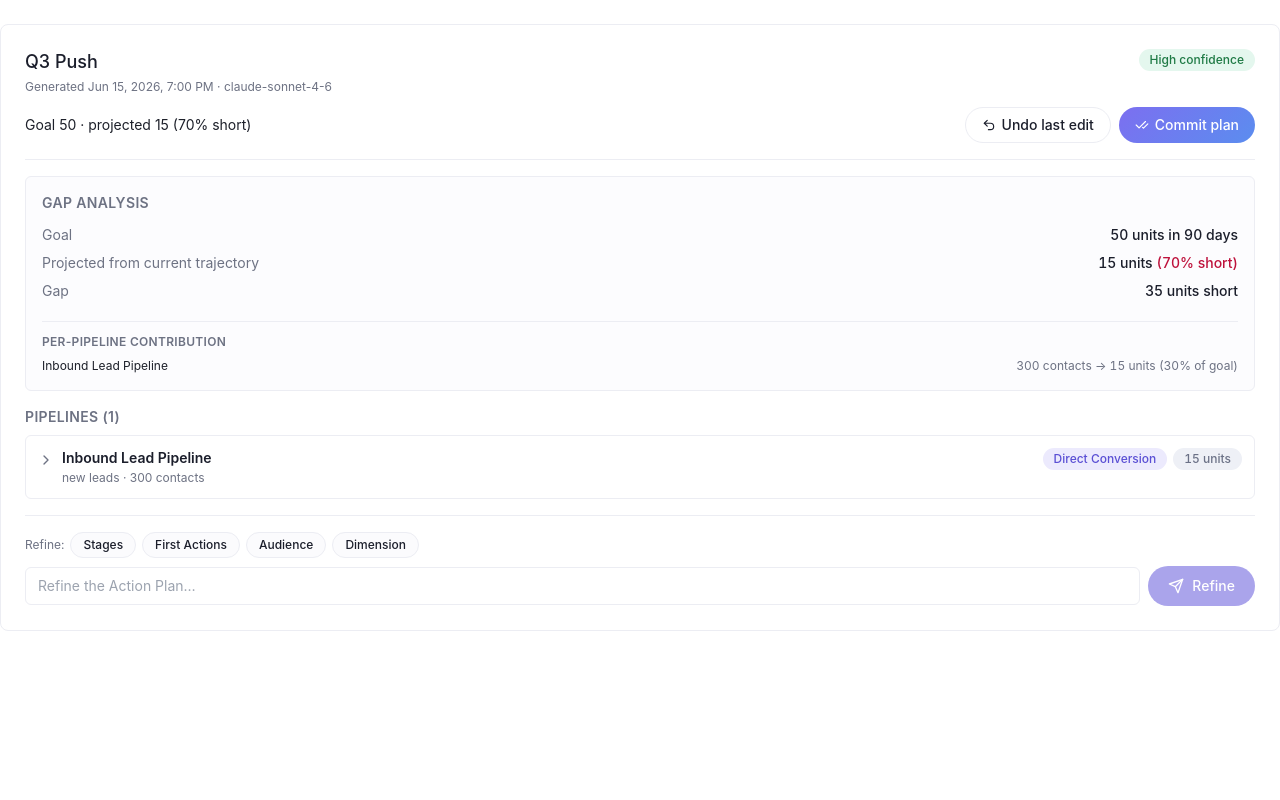
Test: Refiner result variants (G4/G5/G6) › renders concurrent_edit_conflict banner with Reload affordance
Type "rename stage" into the field labelled "Refine the Action Plan…" at [583, 586], box 25,567 -> 1140,605
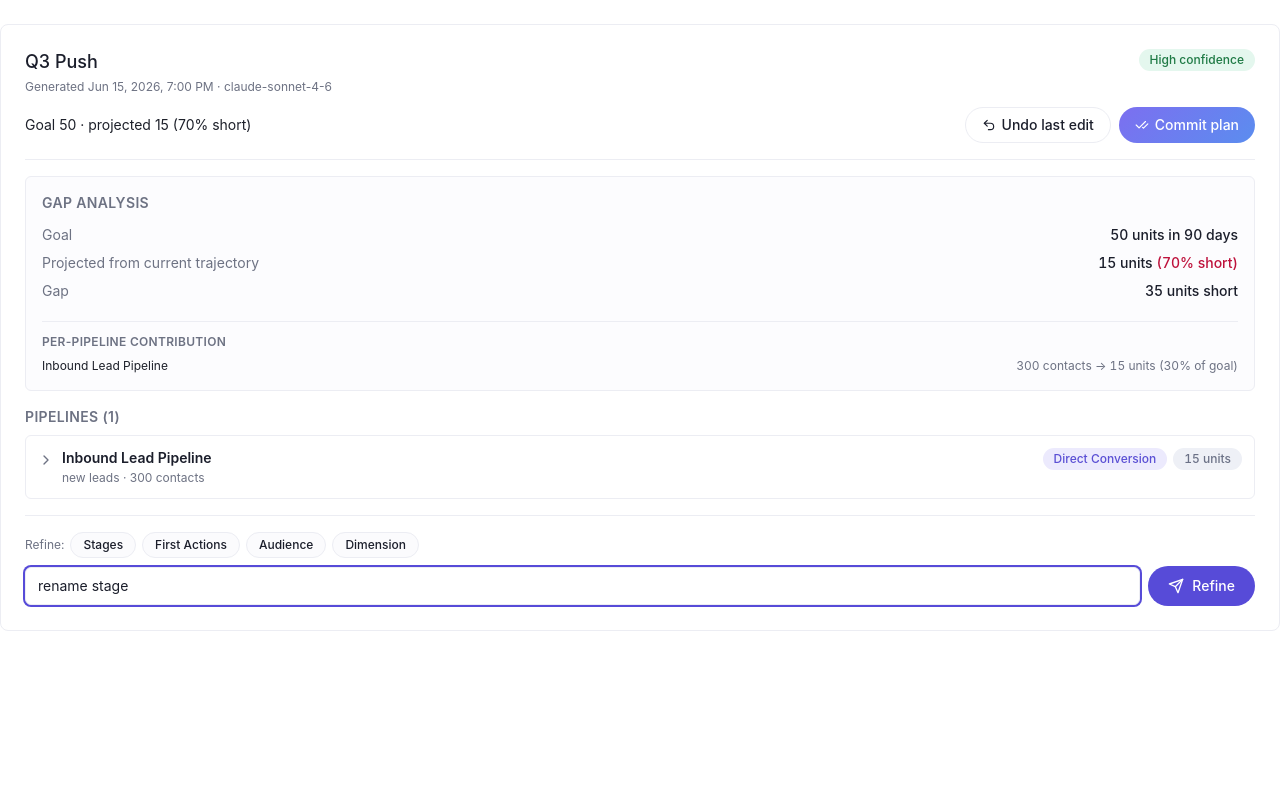
Click the button with aria-label "Send refinement" at [1202, 586], box 1148,566 -> 1255,606
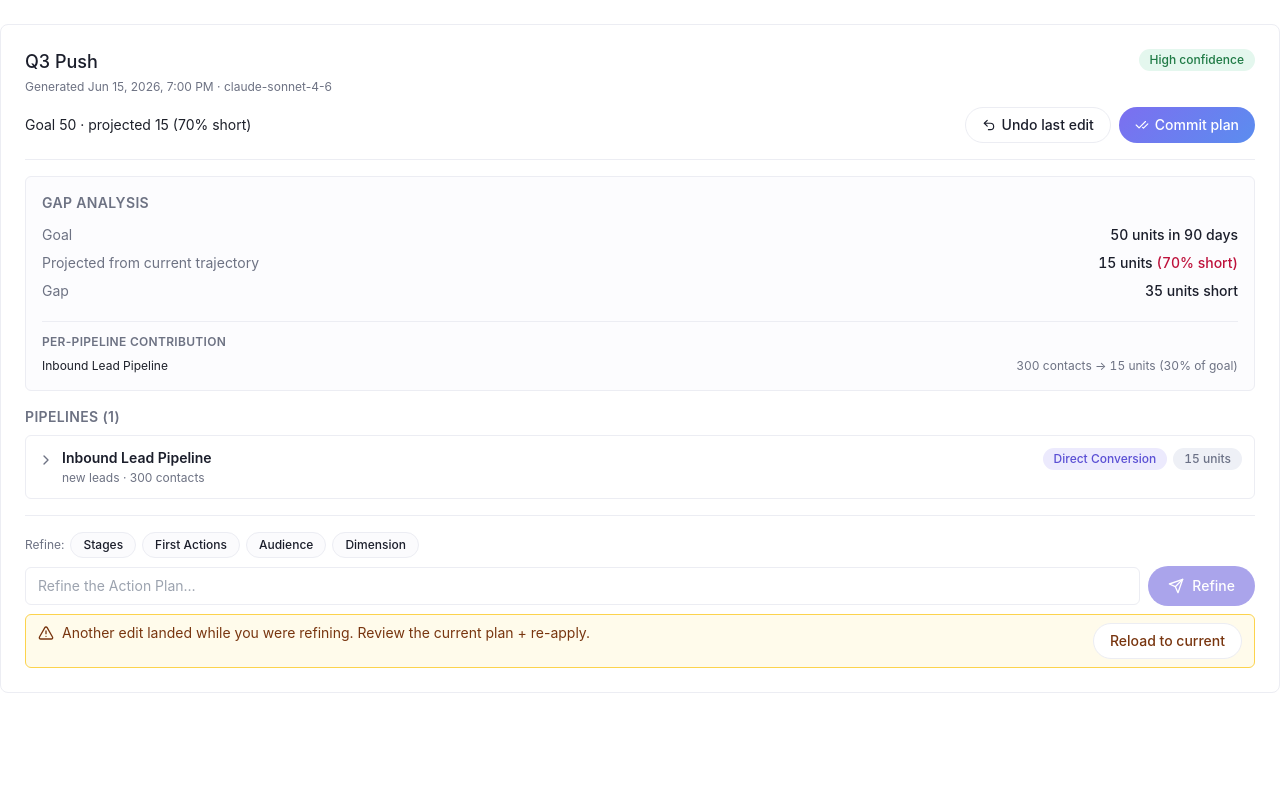
Expected: the button "Reload to current" is shown, 1093,623 -> 1242,659
